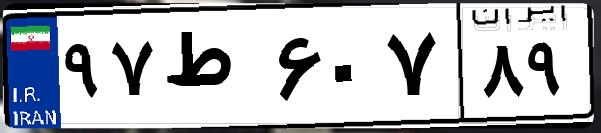0: (330, 28, 385, 110)
6: (270, 28, 330, 110)
7: (385, 28, 445, 110), (110, 28, 158, 98)
8: (475, 38, 525, 113)
9: (57, 26, 110, 100), (525, 38, 570, 115)
ط: (158, 20, 270, 120)
